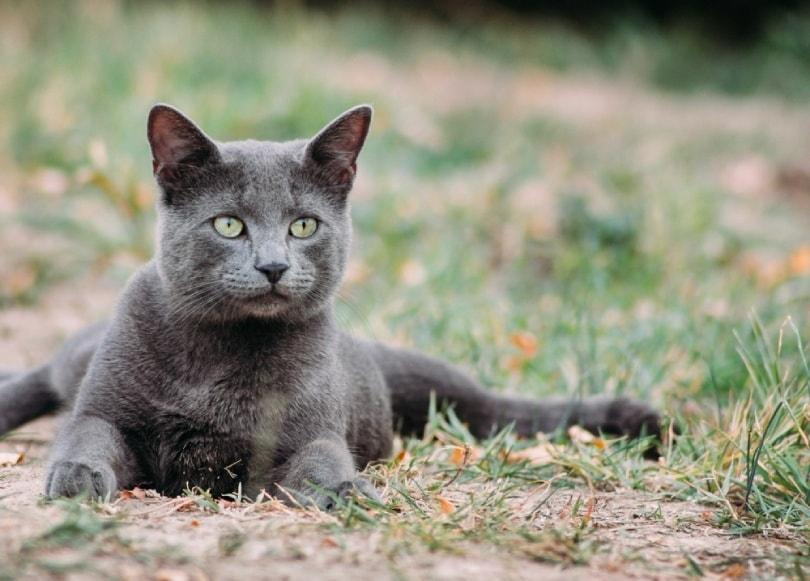rblue: (138, 97, 379, 336)
